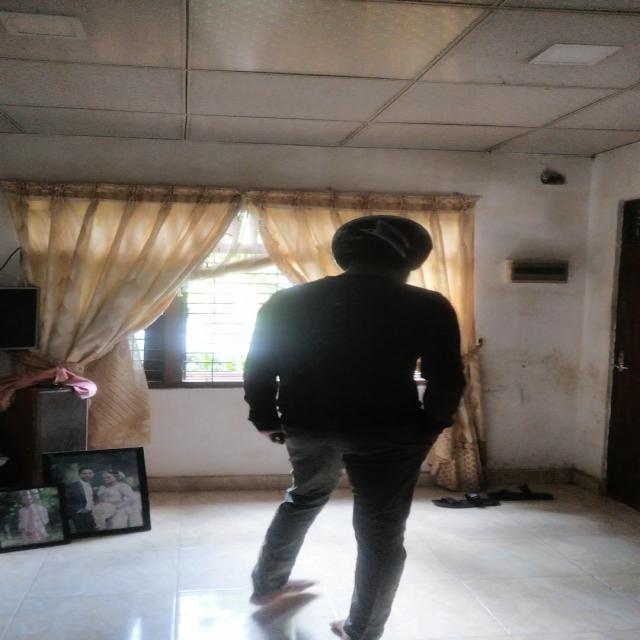Helmet_Wearer: (312, 214, 452, 293)
Person: (244, 211, 475, 640)
